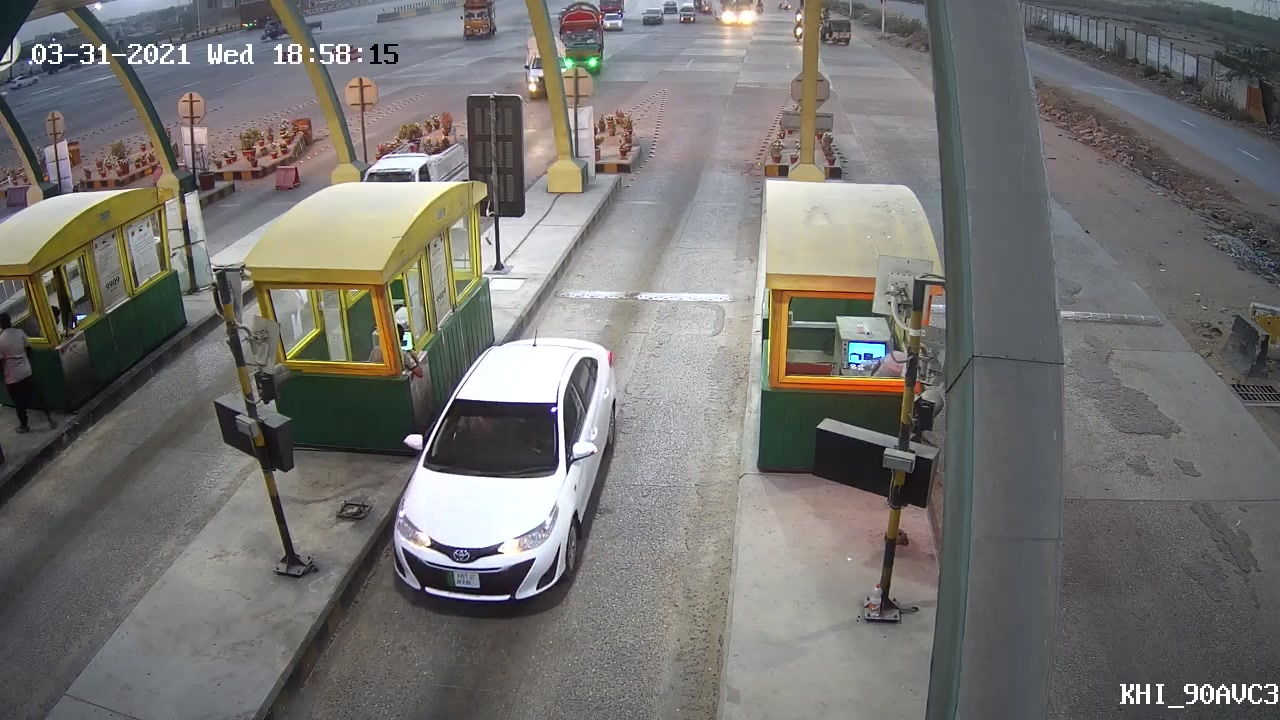F1: (383, 330, 623, 608)
